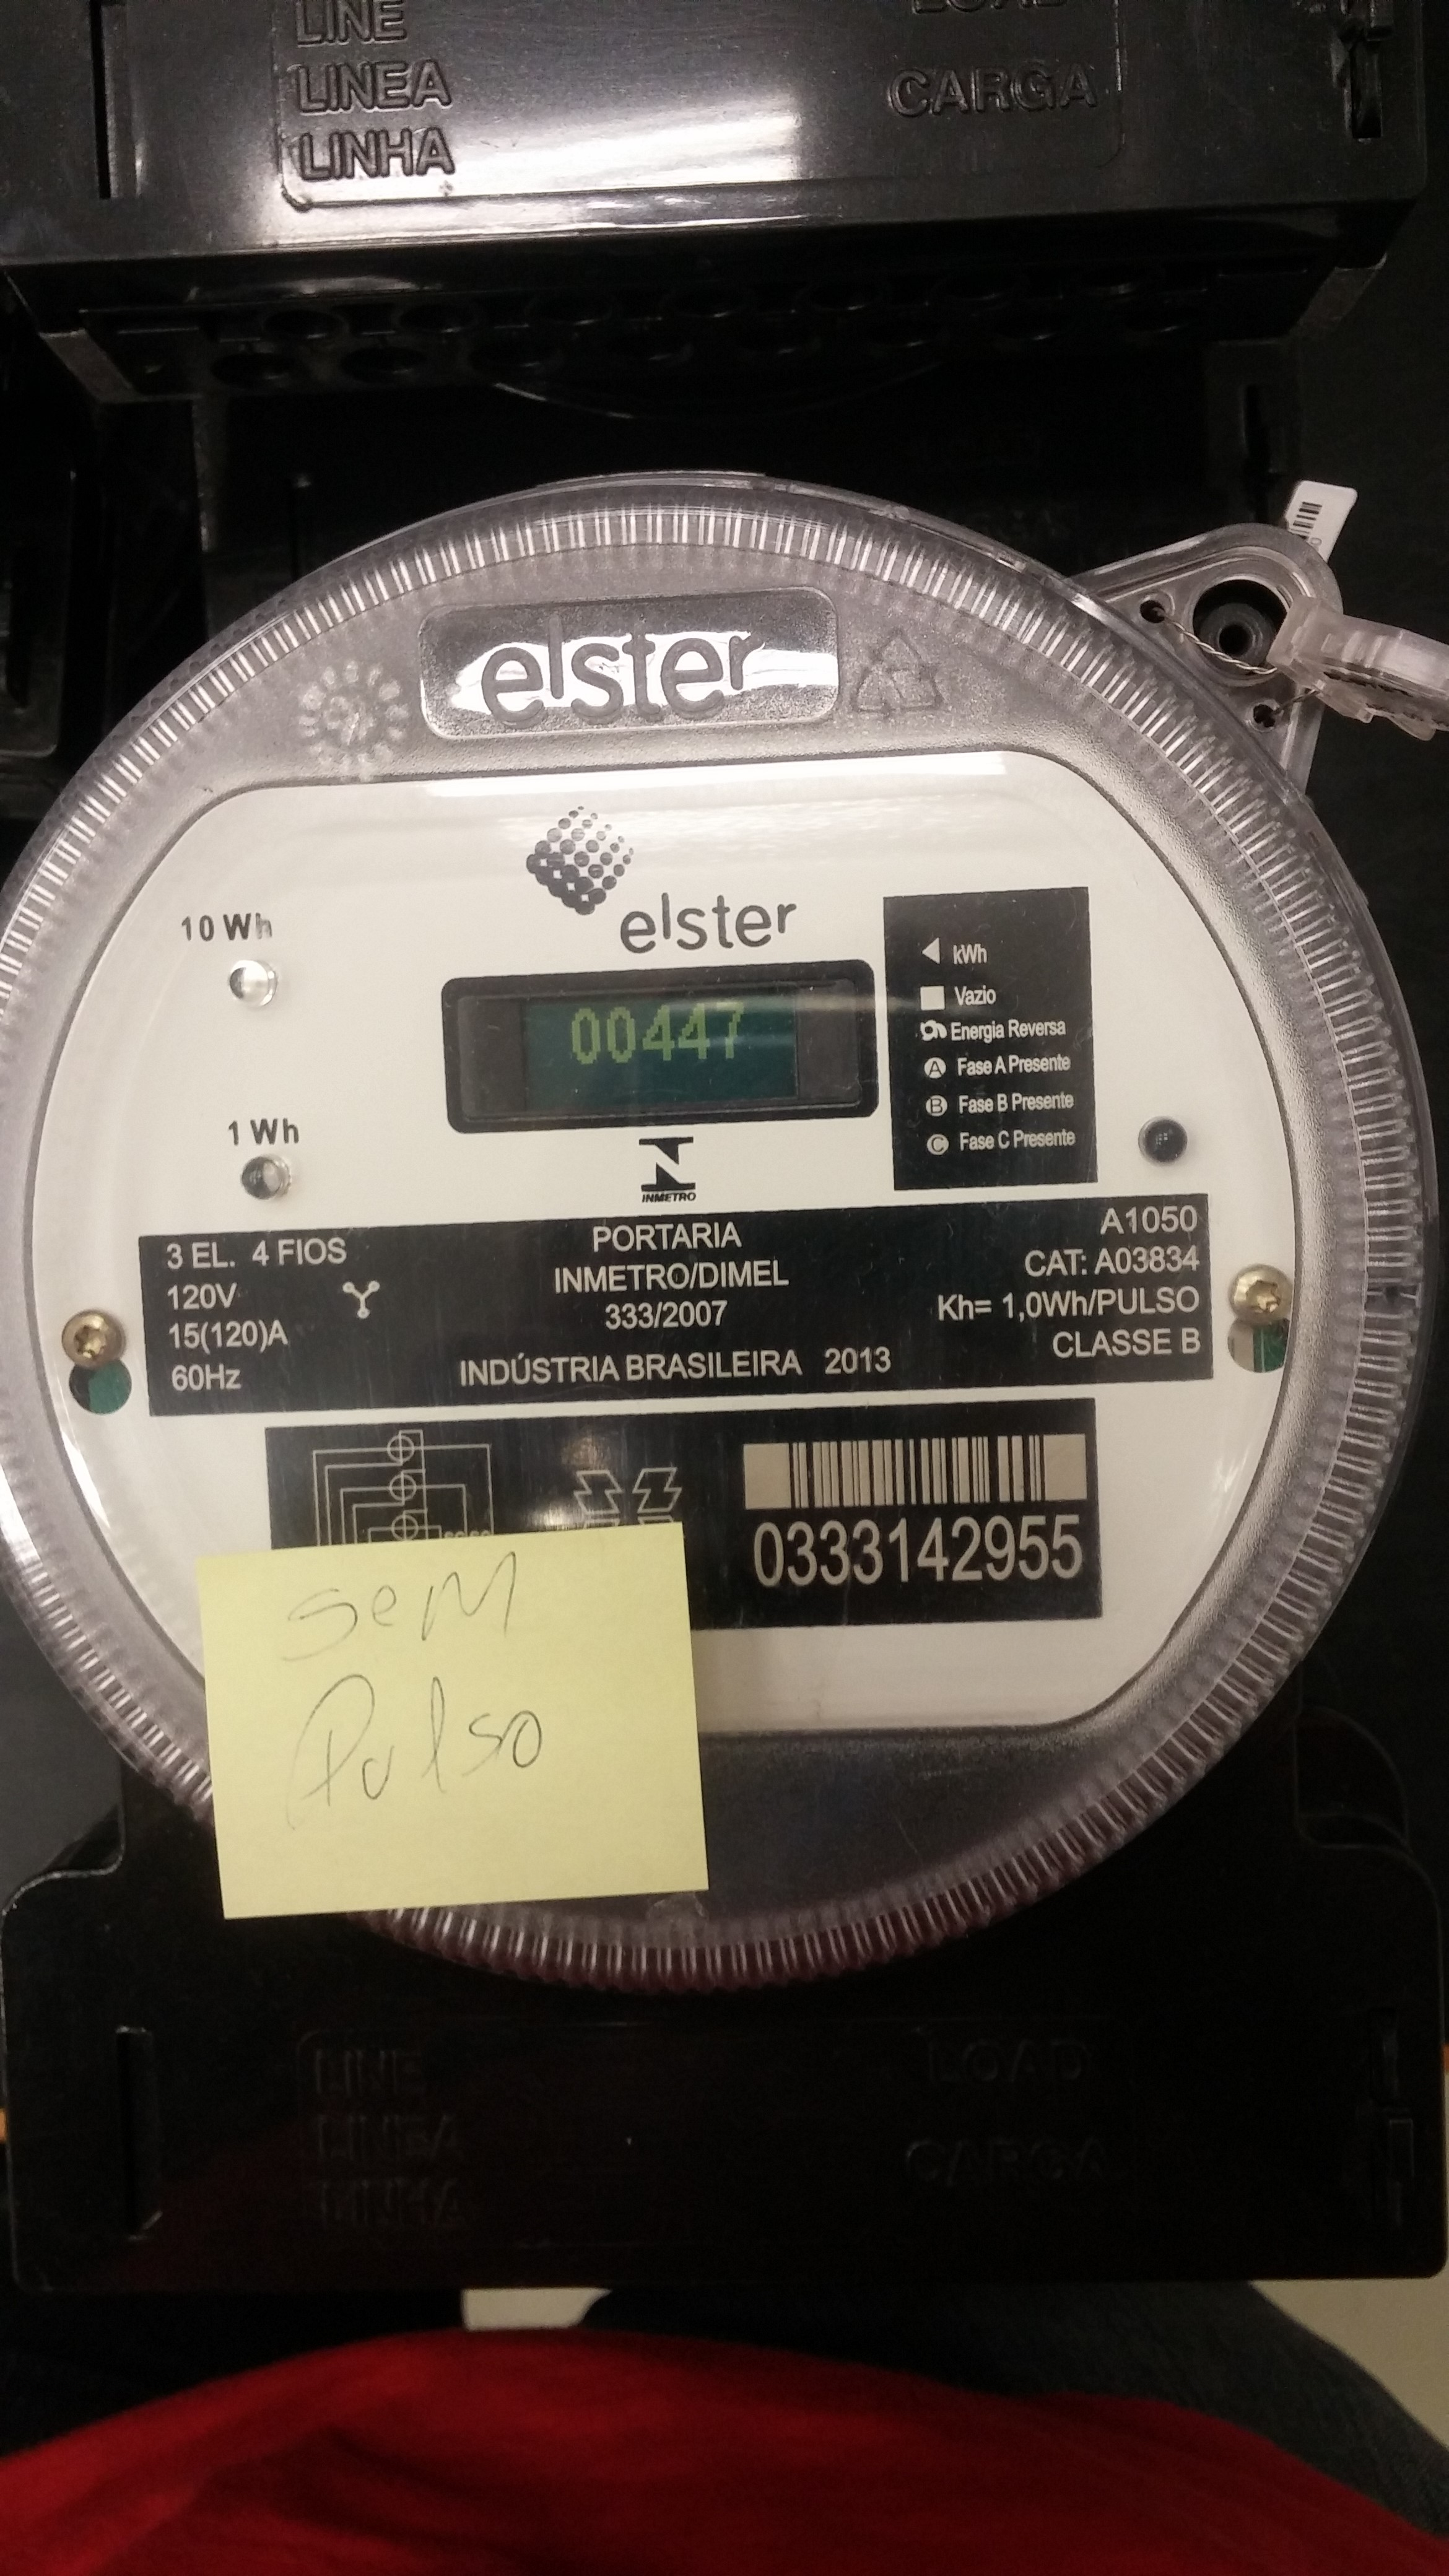counter: (412, 948, 878, 1152)
